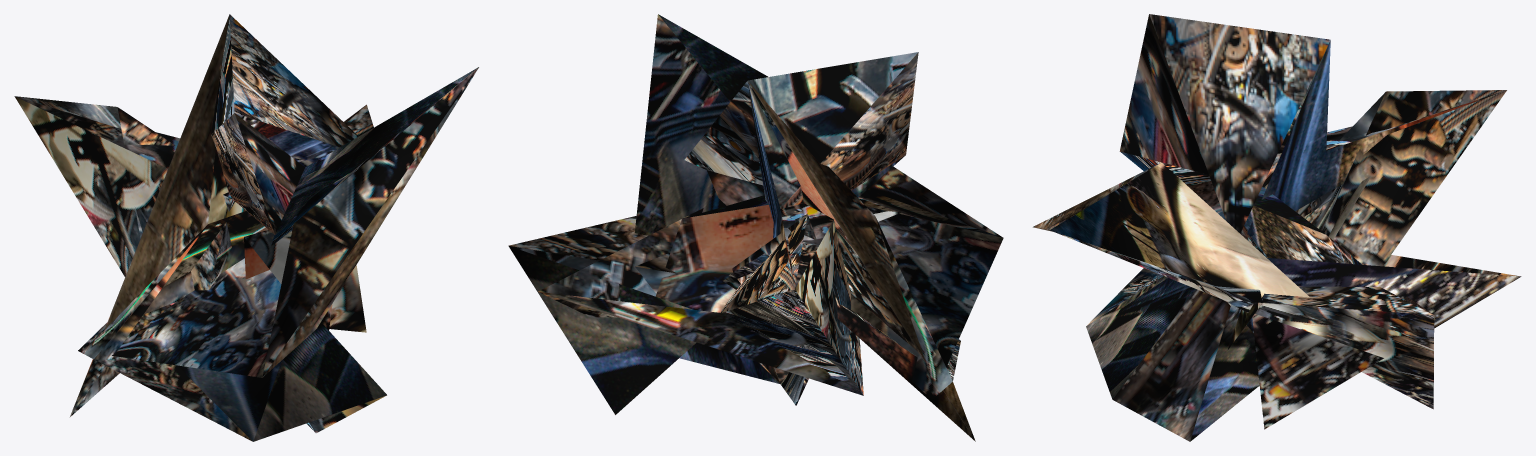
File: junk0.fbx
3 views of the same model, side by side, from view 1: azimuth 30°, elevation 25°; view 2: azimuth 150°, elevation 25°; view 3: azimuth 270°, elevation 25° (orthographic). The views are drawn at different scales.
Visible parts, largest first — view 1: junk_Mesh; view 2: junk_Mesh; view 3: junk_Mesh.
Part boxes in pixels (<box>): junk_Mesh: <box>14,14,478,441</box>; junk_Mesh: <box>508,14,1003,441</box>; junk_Mesh: <box>1032,14,1521,441</box>.
Bounding box in the file's own units: 3.91 × 3.69 × 4.17.
Materials: 1 (1 with a texture image).
